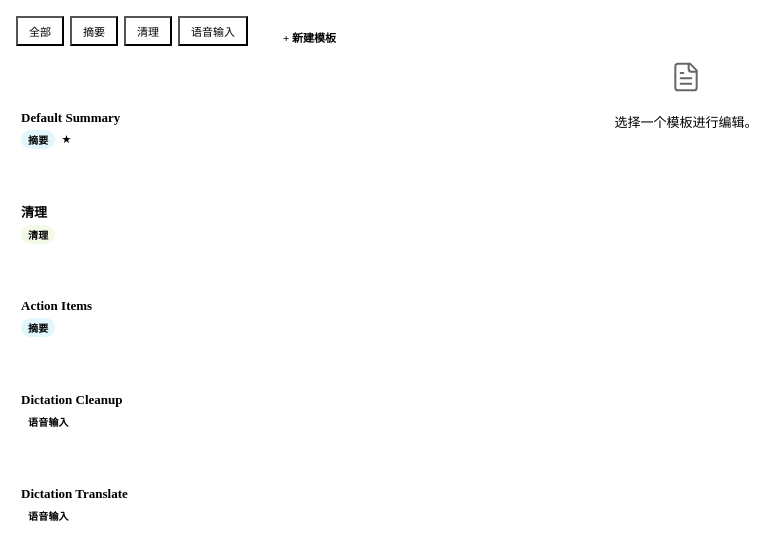
Test: Templates page › clicking Summary filter shows only summary prompts
Click the button "摘要" at (94, 31), box [70, 16, 118, 46]
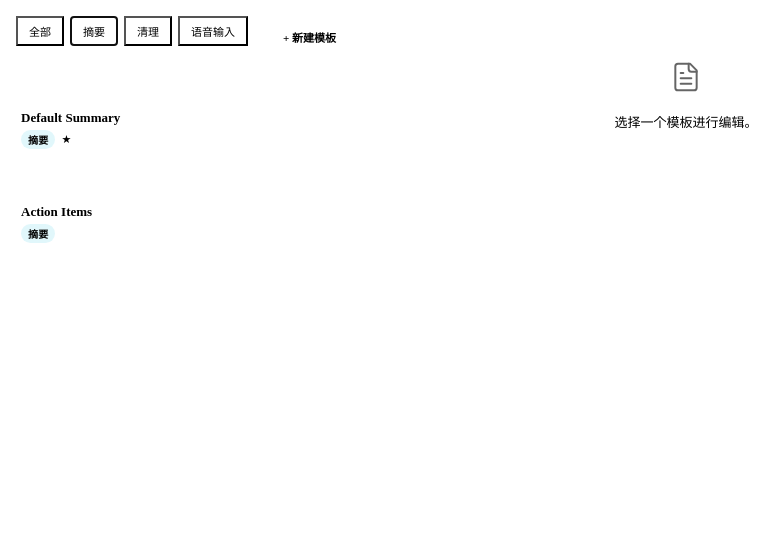
Check: the text "Default Summary" is shown, box [21, 110, 120, 124]
Check: the link "Dictation Cleanup" no longer shows "Dictation Cleanup"
Check: the link "Dictation Translate" no longer shows "Dictation Translate"
